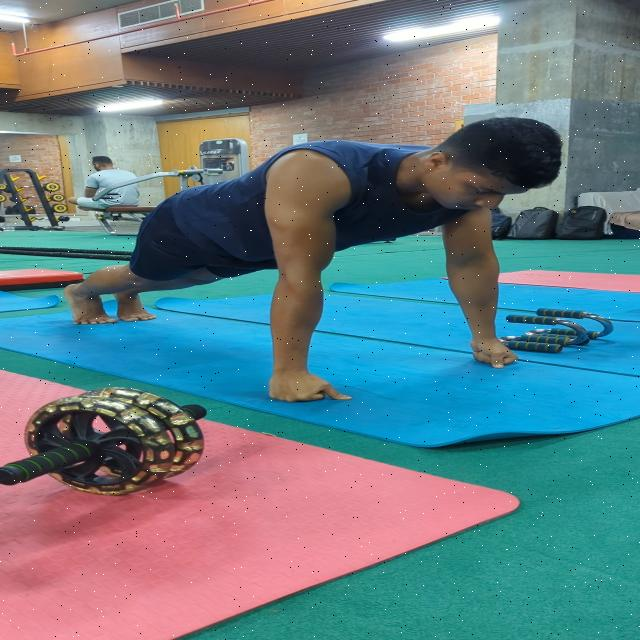Normal_PushUps: (62, 115, 575, 410)
